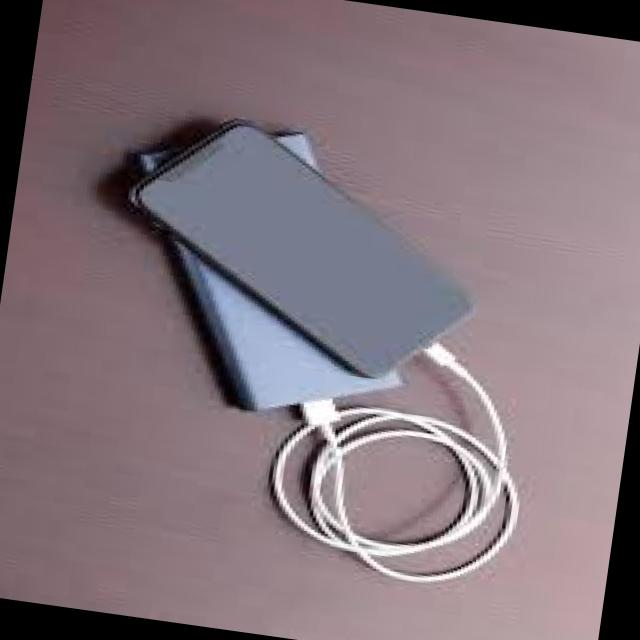power_bank: (83, 104, 430, 440)
